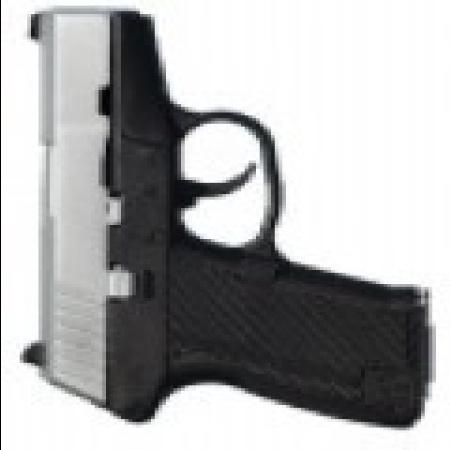Pistol: (15, 9, 420, 424)
